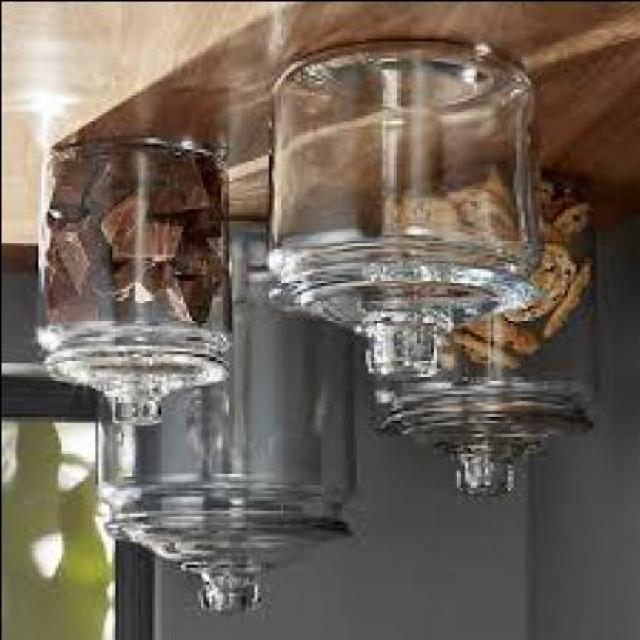BIODEGRADABLE: (494, 248, 568, 318), (39, 219, 92, 296), (531, 262, 584, 332), (88, 190, 150, 242), (73, 159, 125, 216), (105, 153, 173, 196), (82, 242, 132, 296), (111, 222, 174, 264), (467, 193, 521, 242), (173, 179, 216, 239), (46, 162, 88, 222), (444, 333, 511, 370), (398, 199, 458, 239), (464, 322, 531, 356), (162, 287, 216, 327), (156, 168, 202, 210), (170, 248, 219, 284), (116, 270, 159, 302), (546, 210, 586, 244), (526, 196, 566, 230), (40, 291, 83, 315)
GLASS: (91, 214, 352, 614), (264, 40, 541, 382), (360, 176, 598, 501), (34, 142, 231, 427)
